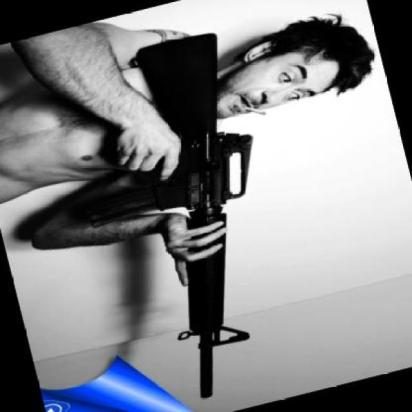Gun: (77, 23, 260, 405)
